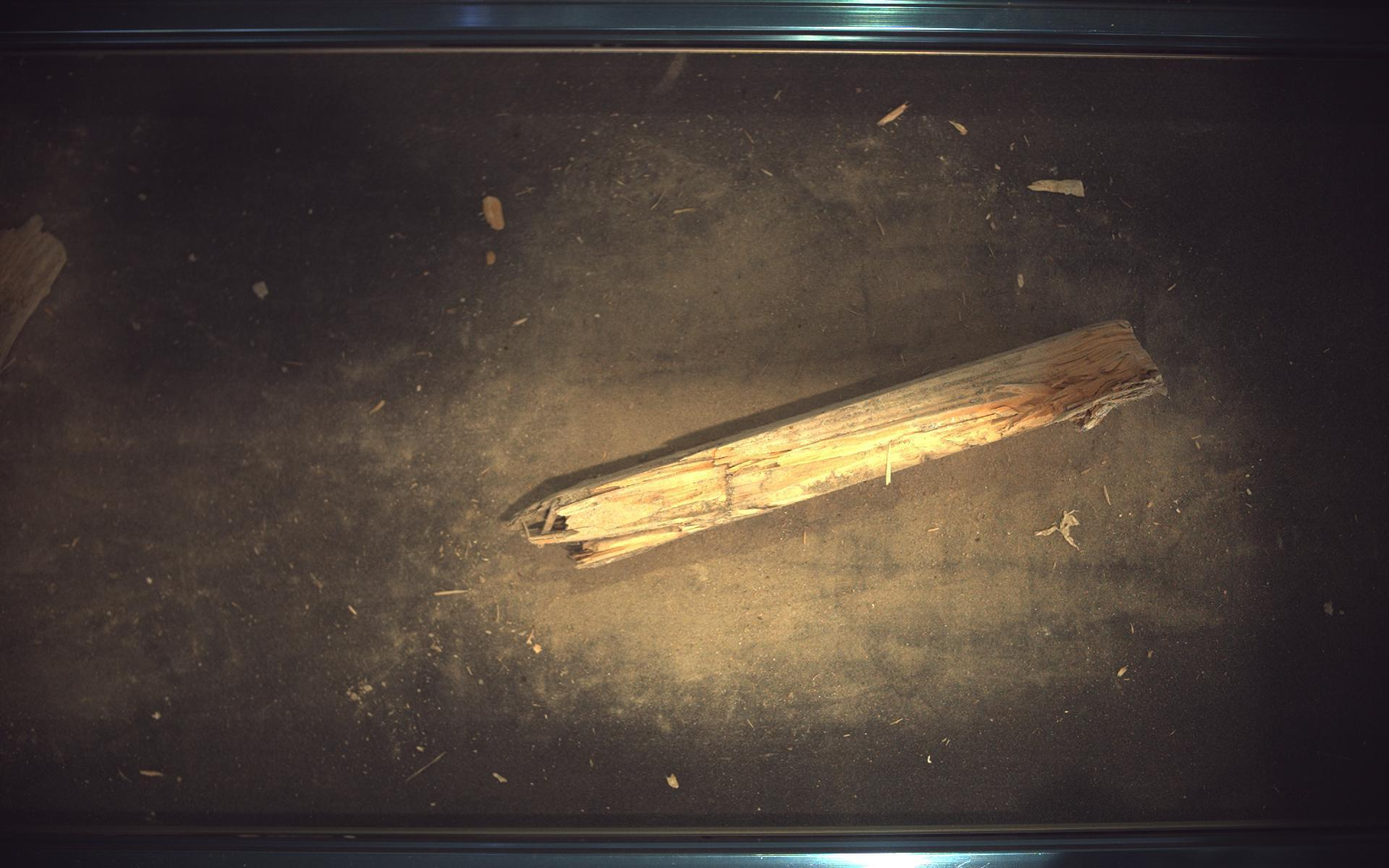wood: (512, 320, 1166, 569), (1, 214, 65, 367)
